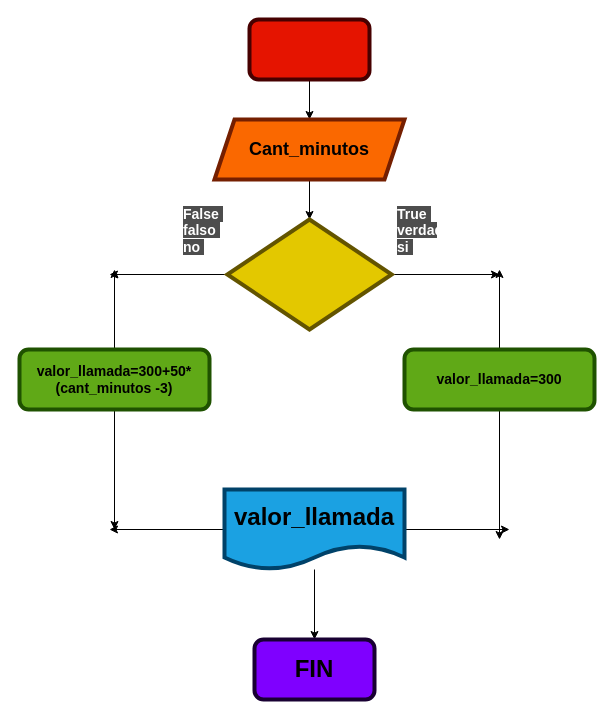
The diagram is 613 pixels wide and 718 high, and some of its shapes have lost their labels. The shapes that lost their labels are listed below. From the top down, each one's centre as x and y in pixels, then its label:
(309,49): INICIO
(309,274): Cant_minutos ≥ 3
